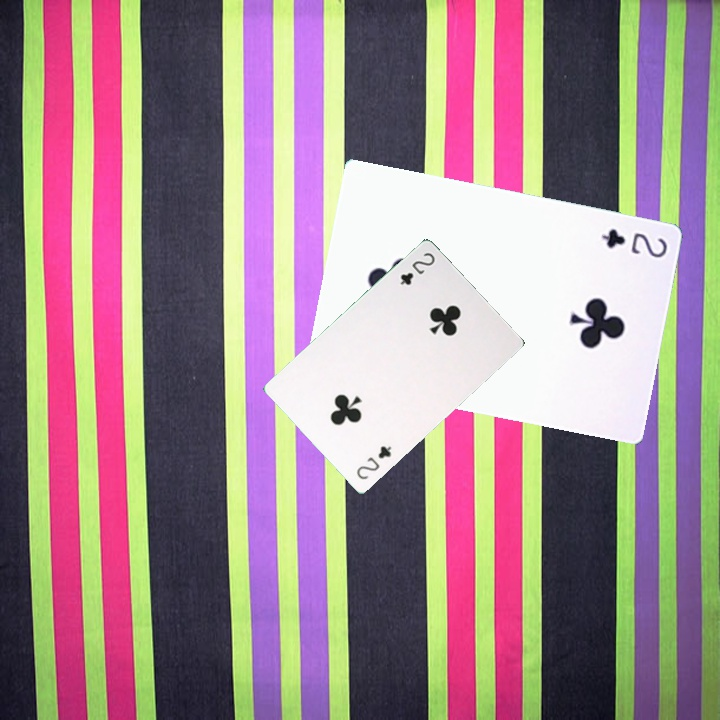2c: (597, 224, 670, 261), (352, 442, 394, 482), (396, 248, 438, 288)
